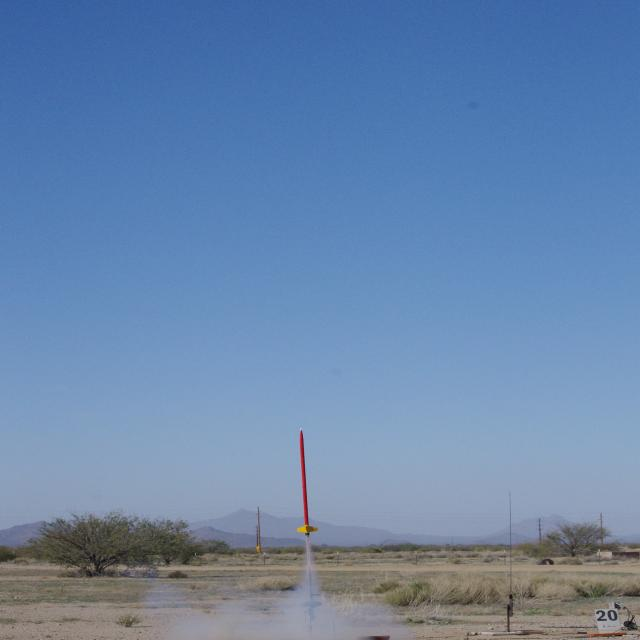Rocket: (296, 428, 318, 536)
